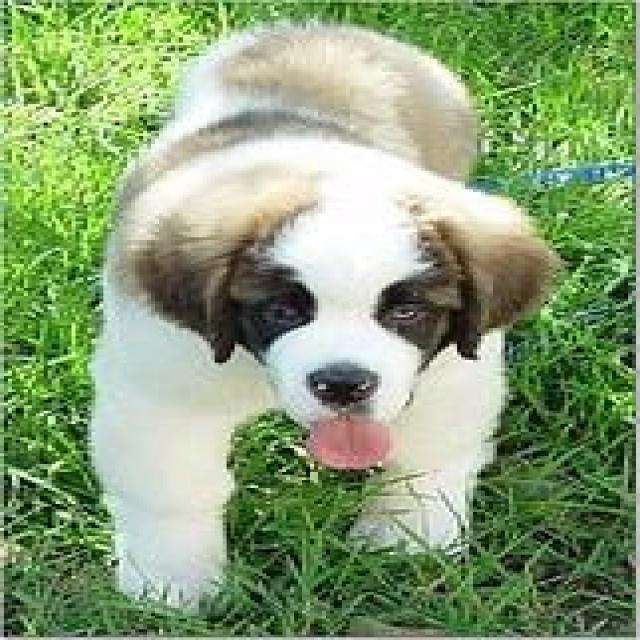happy: (96, 107, 628, 535)
